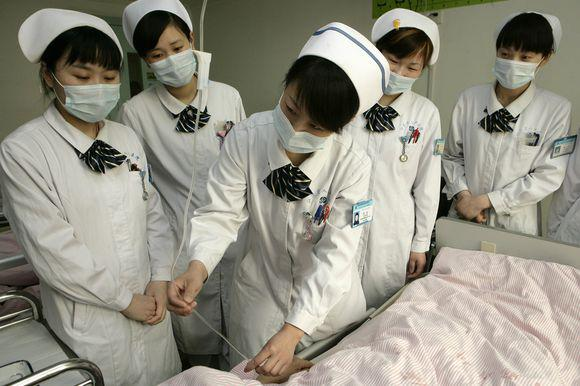OK: (55, 53, 124, 125), (274, 98, 333, 157), (151, 35, 196, 89), (497, 41, 543, 89), (383, 51, 424, 95)
